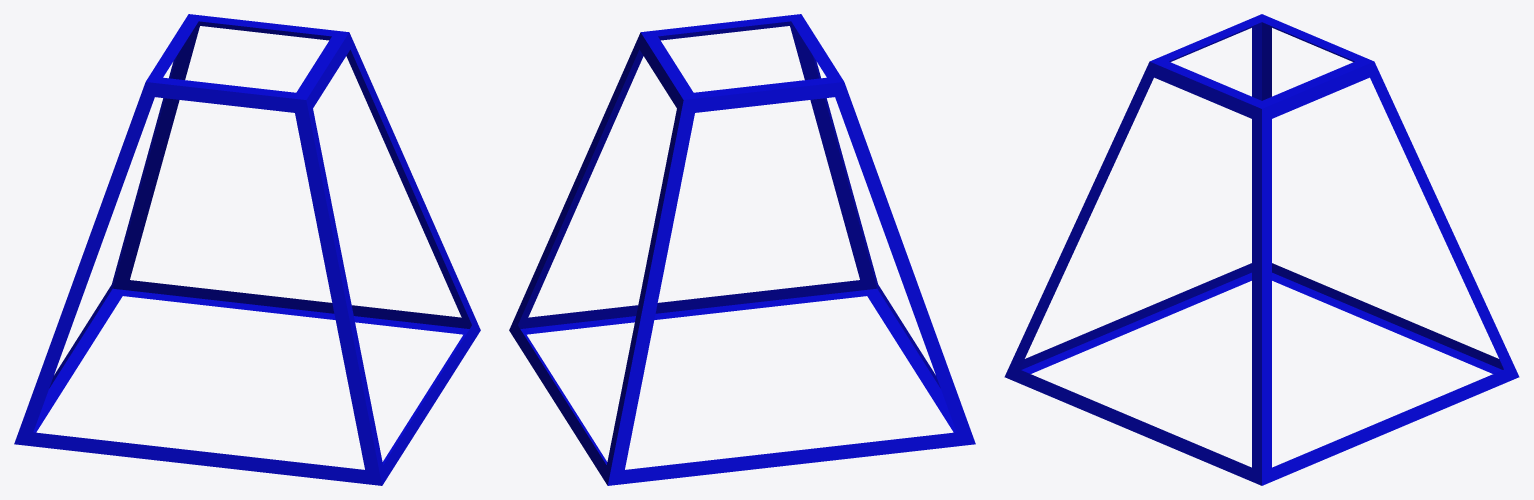
File: tronco-aresta.glb
The picture shows the model from 3 angles, left to right: view 1: azimuth 30°, elevation 25°; view 2: azimuth 150°, elevation 25°; view 3: azimuth 270°, elevation 25°; orthographic projection. The views are drawn at different scales.
Visible parts, largest first — view 1: Cone; view 2: Cone; view 3: Cone.
Part boxes in pixels (<box>): Cone: <box>14,14,480,485</box>; Cone: <box>509,14,975,485</box>; Cone: <box>1004,14,1519,485</box>.
Size of the model in its own units: 1.42 by 0.96 by 1.42.
